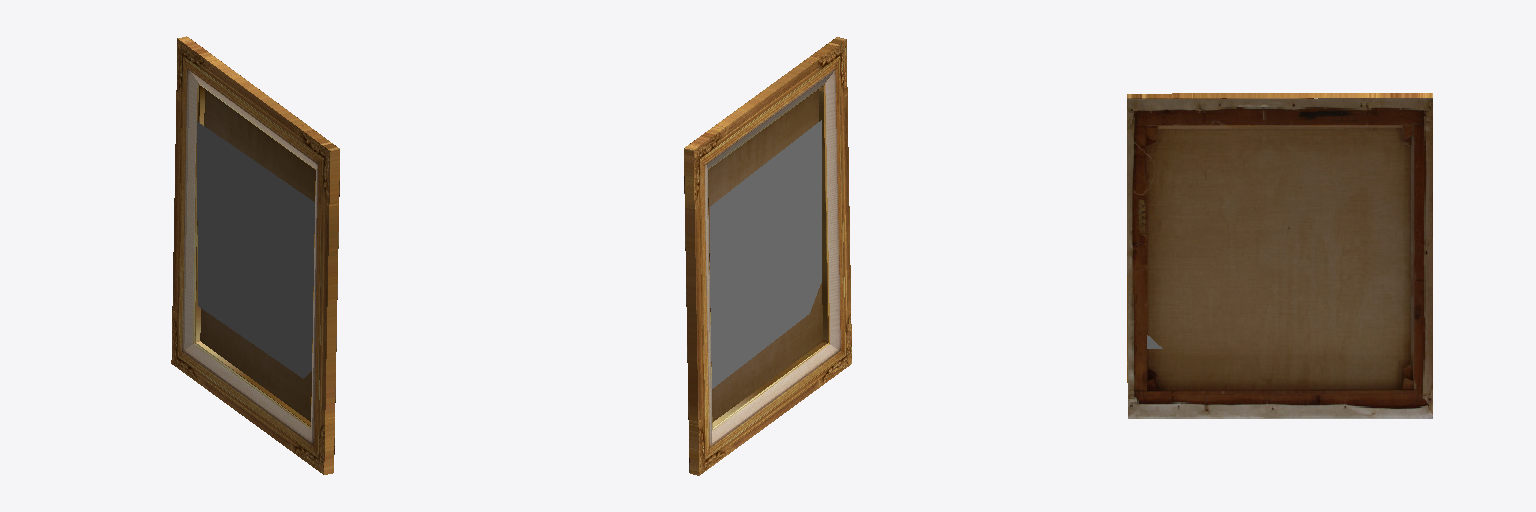
3 renders of one model, left to right at view 1: azimuth 30°, elevation 25°; view 2: azimuth 150°, elevation 25°; view 3: azimuth 270°, elevation 25°, orthographic.
Parts seen in each view (by area): view 1: Frame, Canvas, Back; view 2: Frame, Canvas, Back; view 3: Back, Frame.
Boxes of the visible parts, <box> form: Frame: <box>171,36,339,474</box>; Canvas: <box>197,121,314,378</box>; Back: <box>191,39,339,454</box>; Frame: <box>684,37,851,475</box>; Canvas: <box>710,120,821,388</box>; Back: <box>684,39,833,472</box>; Back: <box>1127,98,1432,418</box>; Frame: <box>1127,93,1432,382</box>.
Bounding box in the file's own units: 2.72 × 52.78 × 45.21.
2 materials, 1 textured.